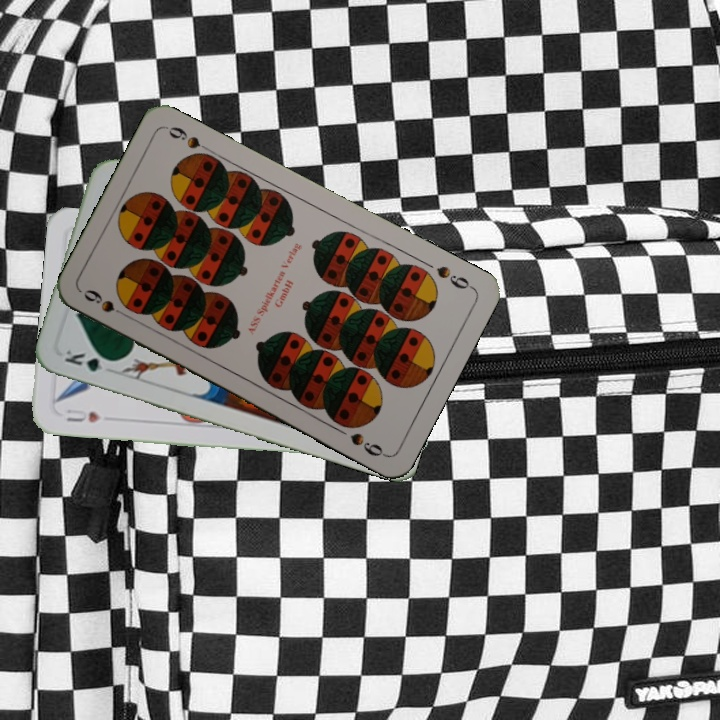GK: (60, 345, 118, 375)
HU: (62, 405, 103, 425)
S9: (79, 285, 133, 321), (432, 261, 476, 292)
